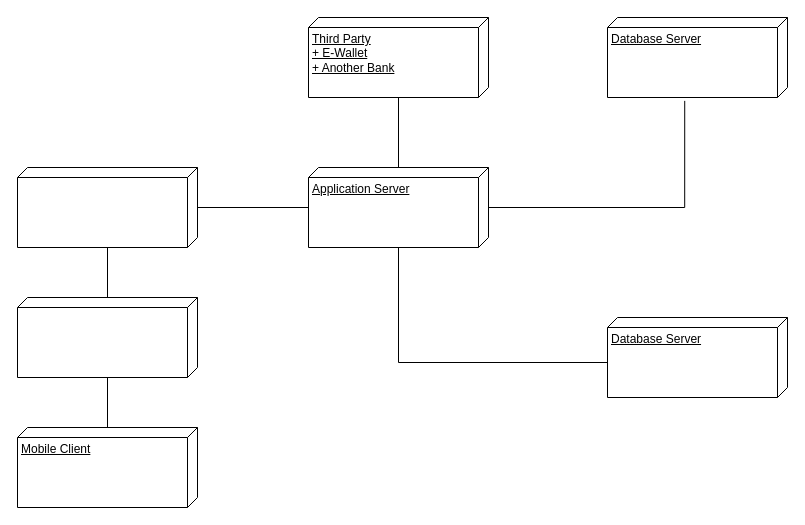
The diagram is 805 pixels wide and 525 high, and some of its shapes have lost their labels. Here are the shapes that lost their labels. From the top down, the box of each, then its label:
(16, 166, 198, 248): Firewall
(16, 296, 198, 378): Caching
